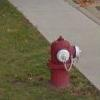Hydrant: (42, 30, 87, 87)
